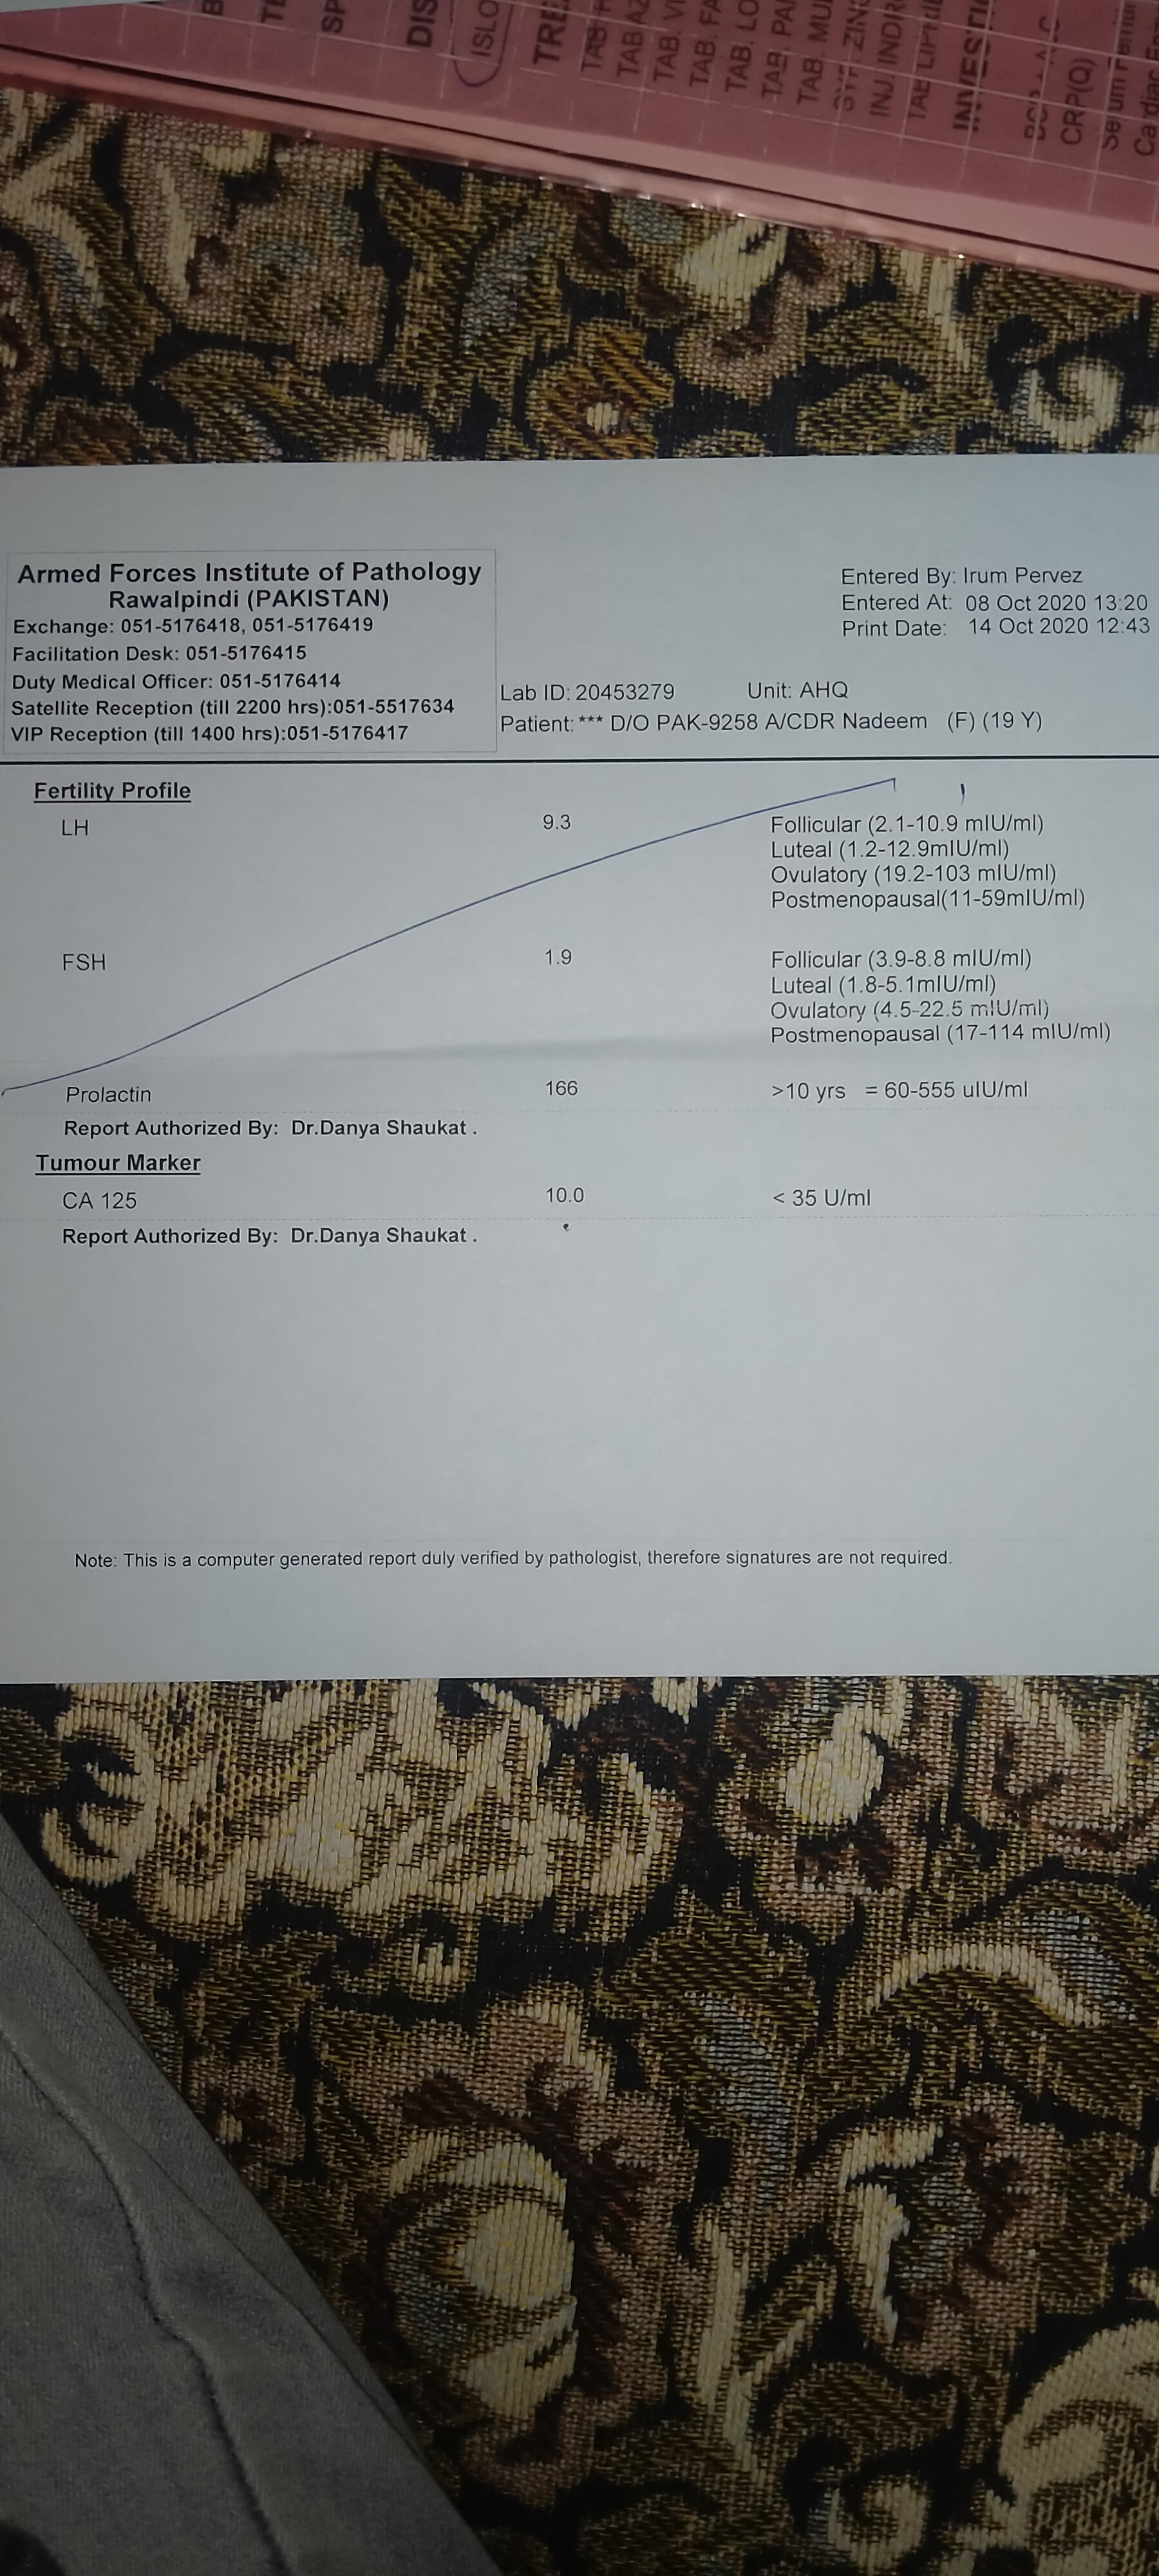report: (13, 757, 1159, 1255)
